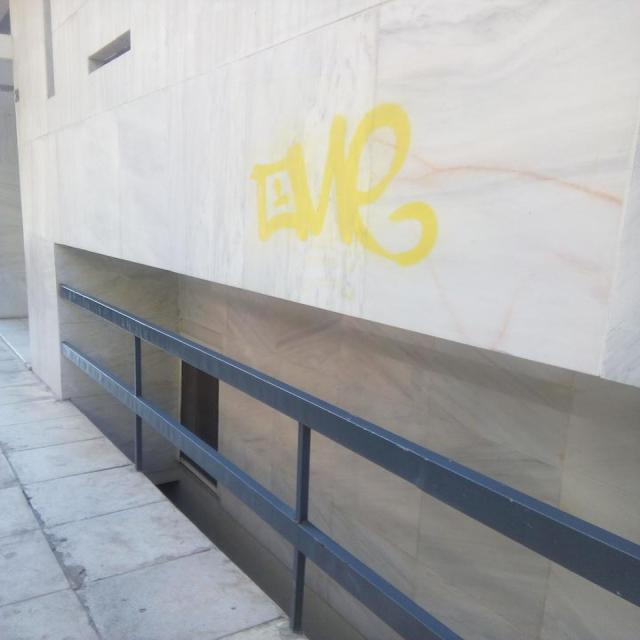nonspitting: (247, 102, 439, 268)
